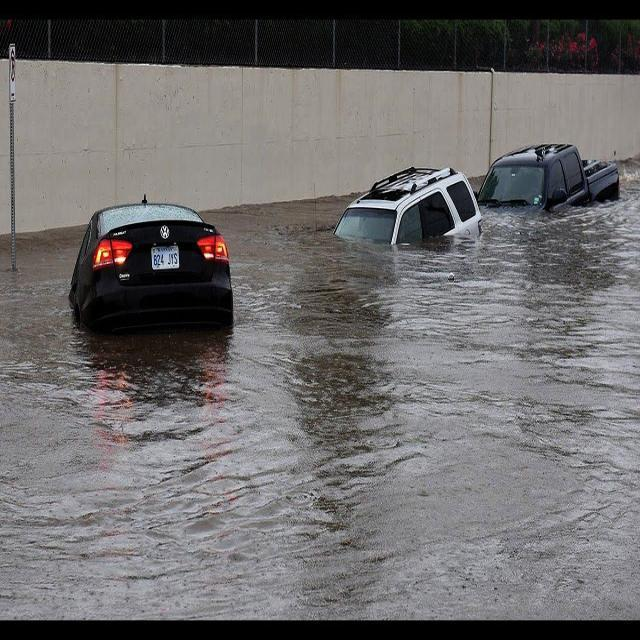water: (0, 169, 638, 619)
